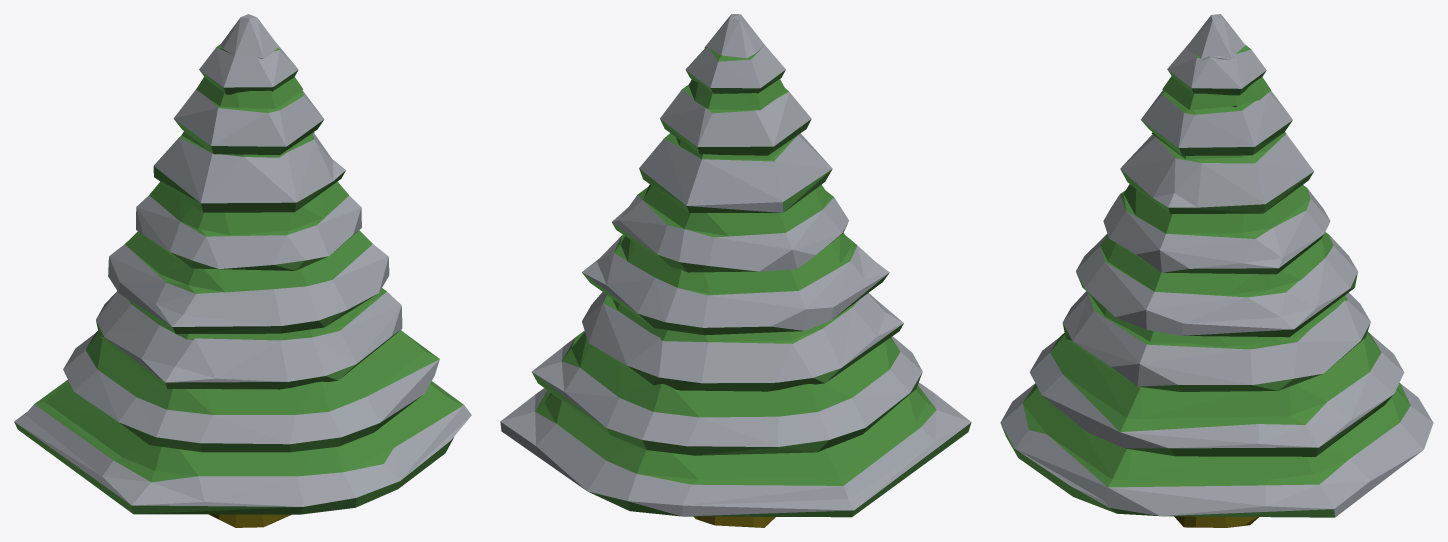
Rendered from tree2_3.fbx.
3 renders of one model, left to right at view 1: azimuth 30°, elevation 25°; view 2: azimuth 150°, elevation 25°; view 3: azimuth 270°, elevation 25°, orthographic.
Parts seen in each view (by area): view 1: Cylinder.002; view 2: Cylinder.002; view 3: Cylinder.002.
Boxes of the visible parts, <box> form: Cylinder.002: <box>14,14,471,527</box>; Cylinder.002: <box>500,14,971,527</box>; Cylinder.002: <box>1000,14,1433,527</box>.
Bounding box in the file's own units: 297 × 398 × 314.
